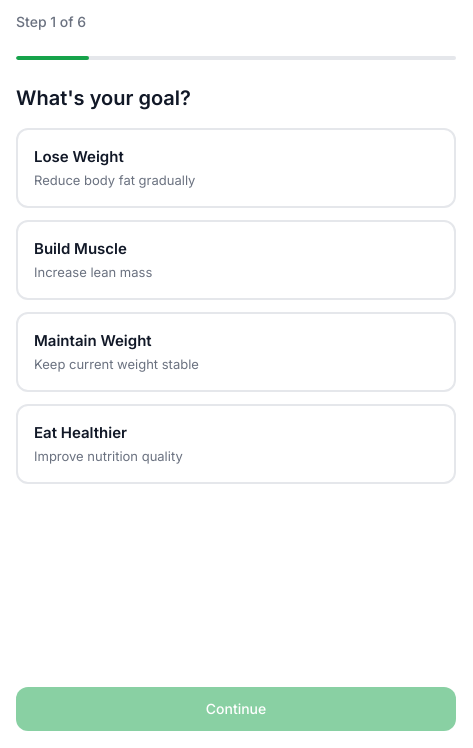
Scenario: OnboardingWizard — step 1: Goal › enables continue after selecting goal
Click the text "Maintain Weight".
click(93, 340)  # box x1=34 y1=331 x2=152 y2=350
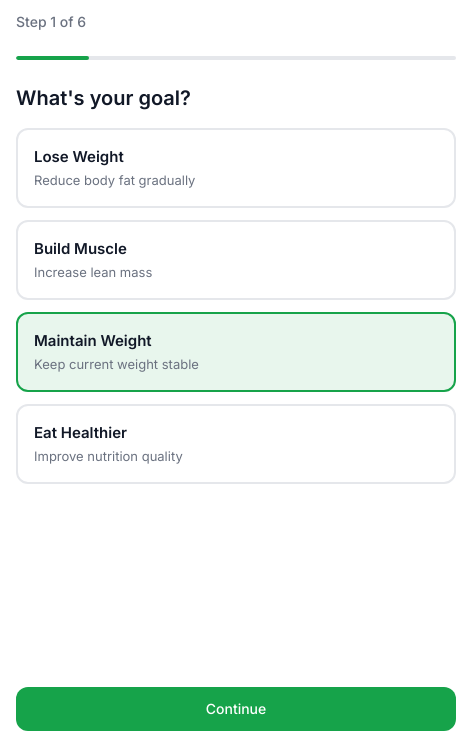
Result: the button "Continue" is enabled at x1=16 y1=687 x2=456 y2=731
